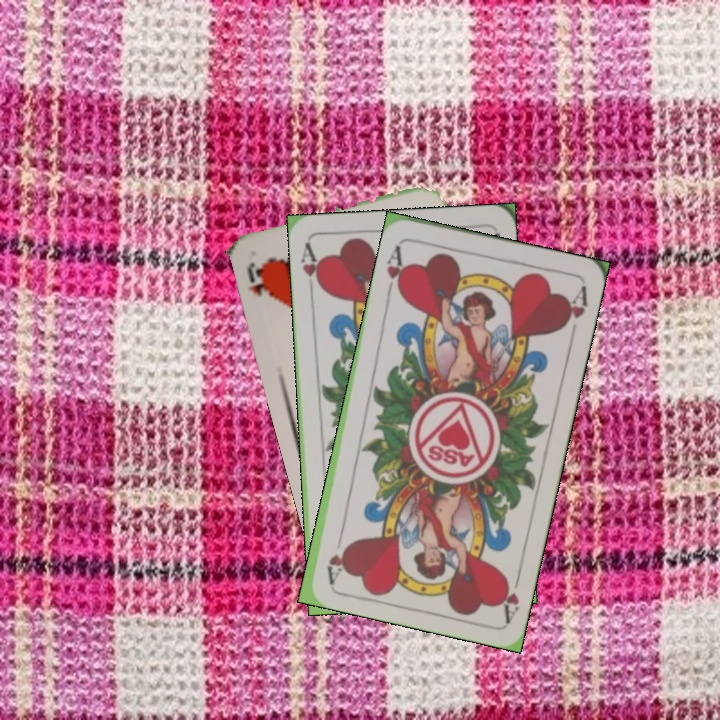HA: (495, 565, 525, 623), (296, 239, 325, 298), (382, 241, 410, 298)
HO: (243, 258, 273, 300)
